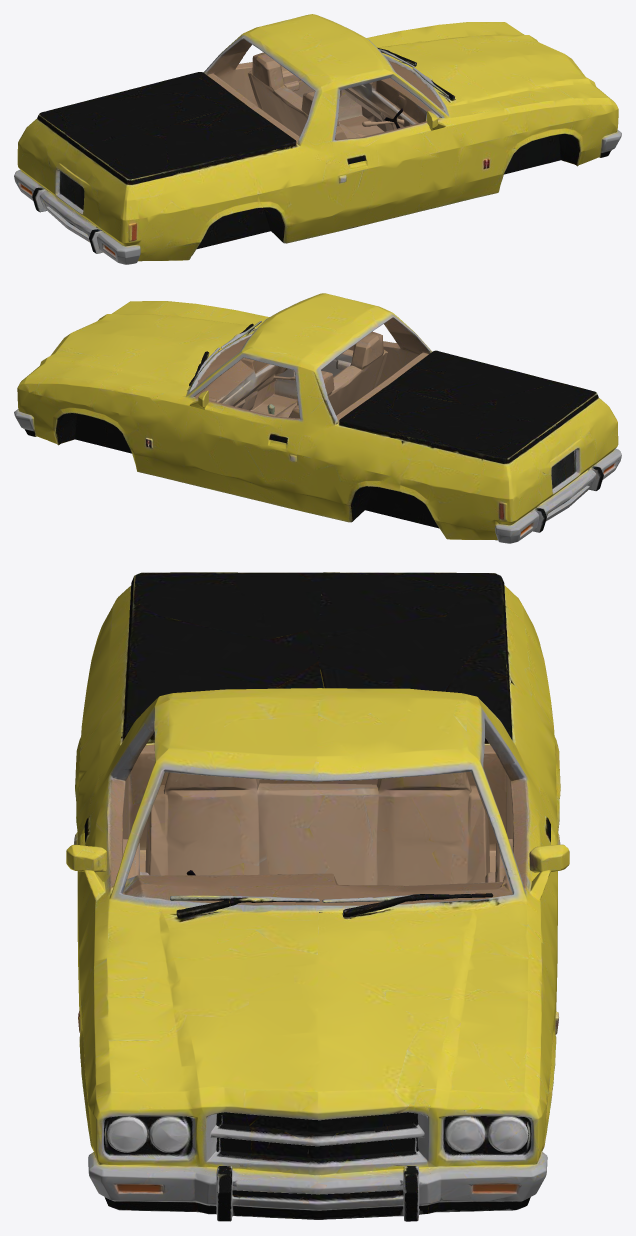
Rendered from xc_ute.glb.
3 renders of one model, top to bottom at view 1: azimuth 30°, elevation 25°; view 2: azimuth 150°, elevation 25°; view 3: azimuth 270°, elevation 25°, orthographic. The views are drawn at different scales.
Parts seen in each view (by area): view 1: xc_ute; view 2: xc_ute; view 3: xc_ute.
Part boxes in pixels (x1,y1,x2,y2): xc_ute: [14, 14, 621, 264]; xc_ute: [14, 293, 621, 543]; xc_ute: [66, 572, 569, 1221].
Bounding box in the file's own units: 4.97 × 1.27 × 2.1.
1 material, 1 textured.
